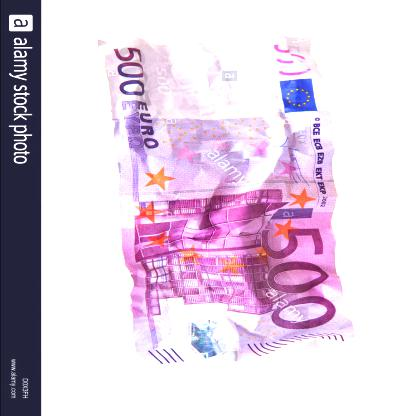euro_banknote: (61, 82, 399, 307)
